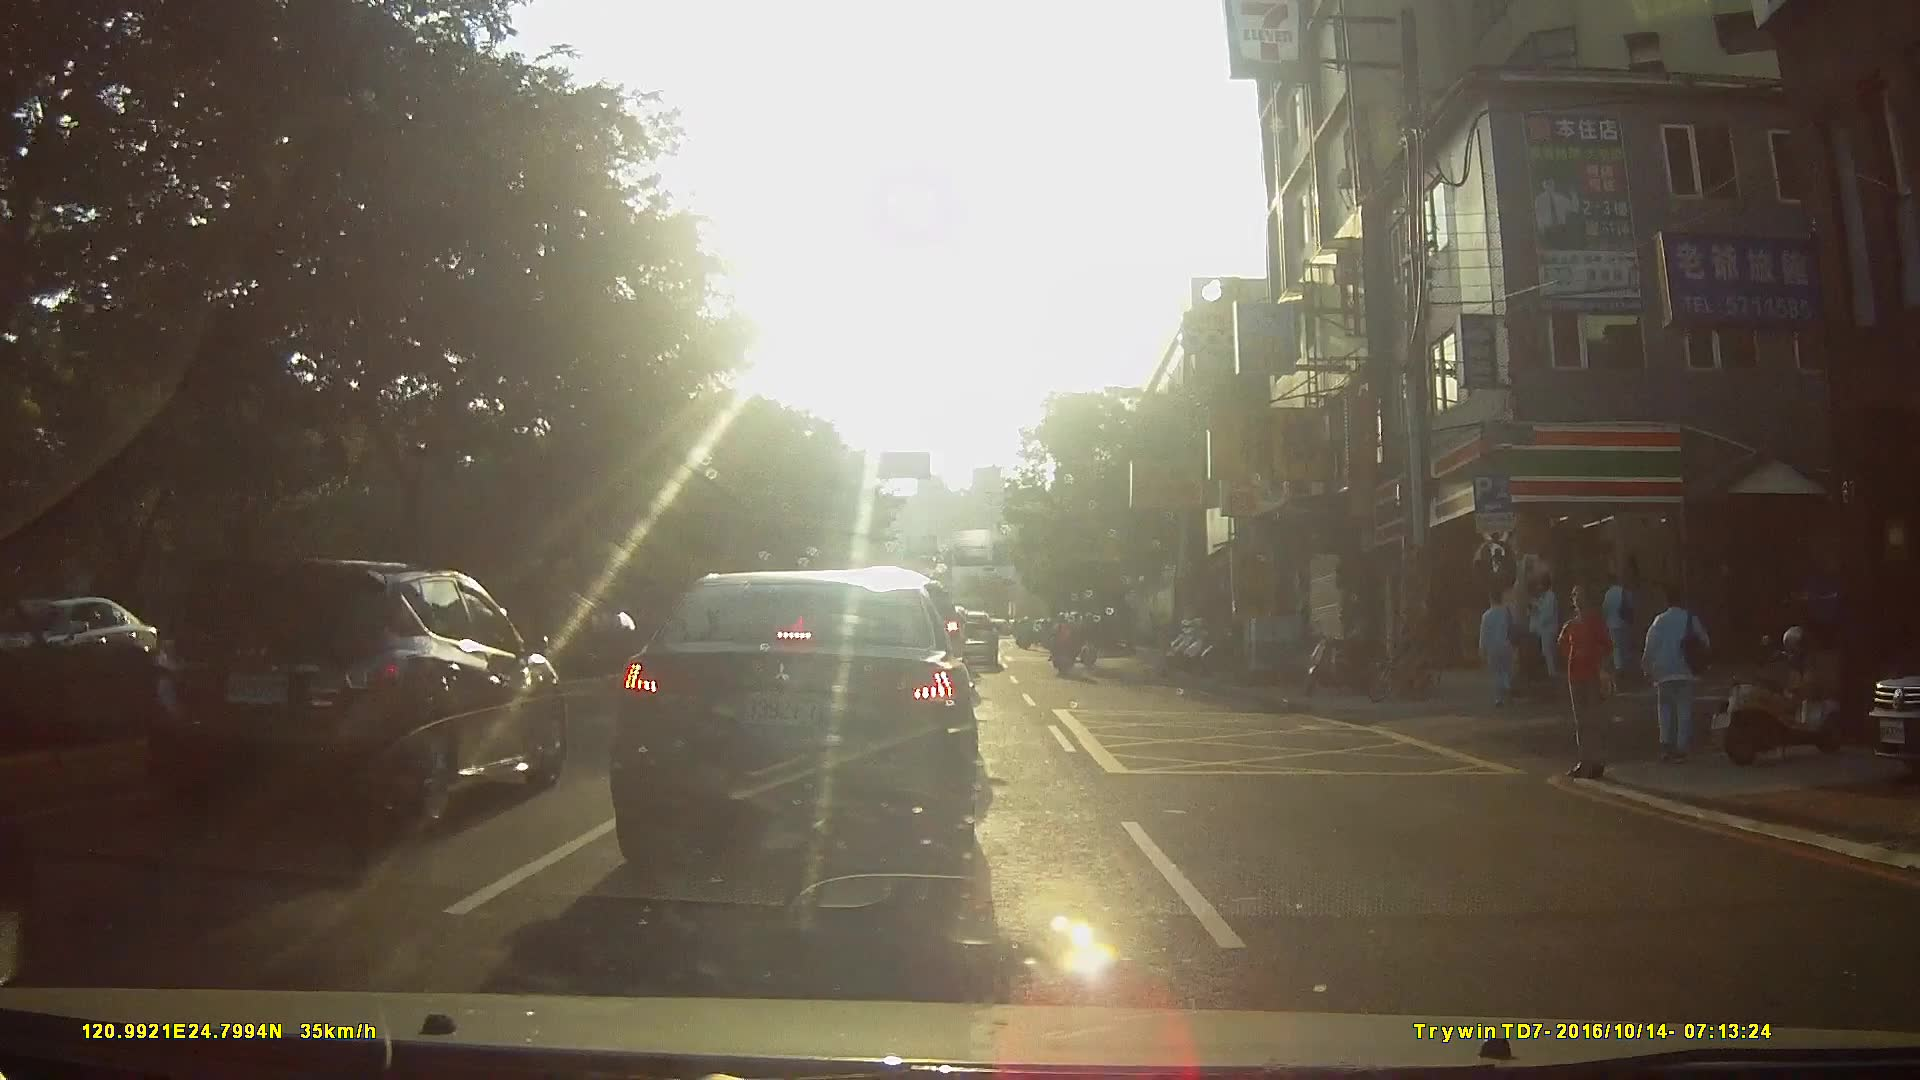pedestrian: (1633, 583, 1704, 758), (1554, 588, 1618, 779), (1478, 587, 1531, 708), (1525, 566, 1567, 688)
rider: (1050, 611, 1085, 680), (1064, 607, 1089, 660)
vehicle: (140, 551, 570, 836), (606, 568, 1000, 866), (1, 600, 176, 687), (1856, 645, 1920, 800)
